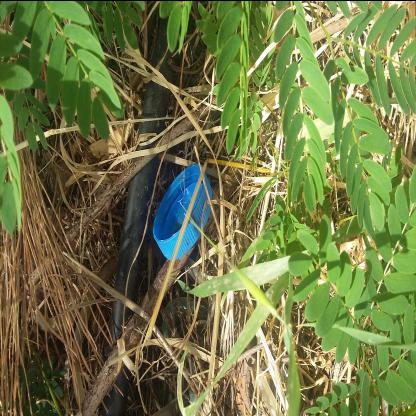plastik: (160, 202, 260, 264)
